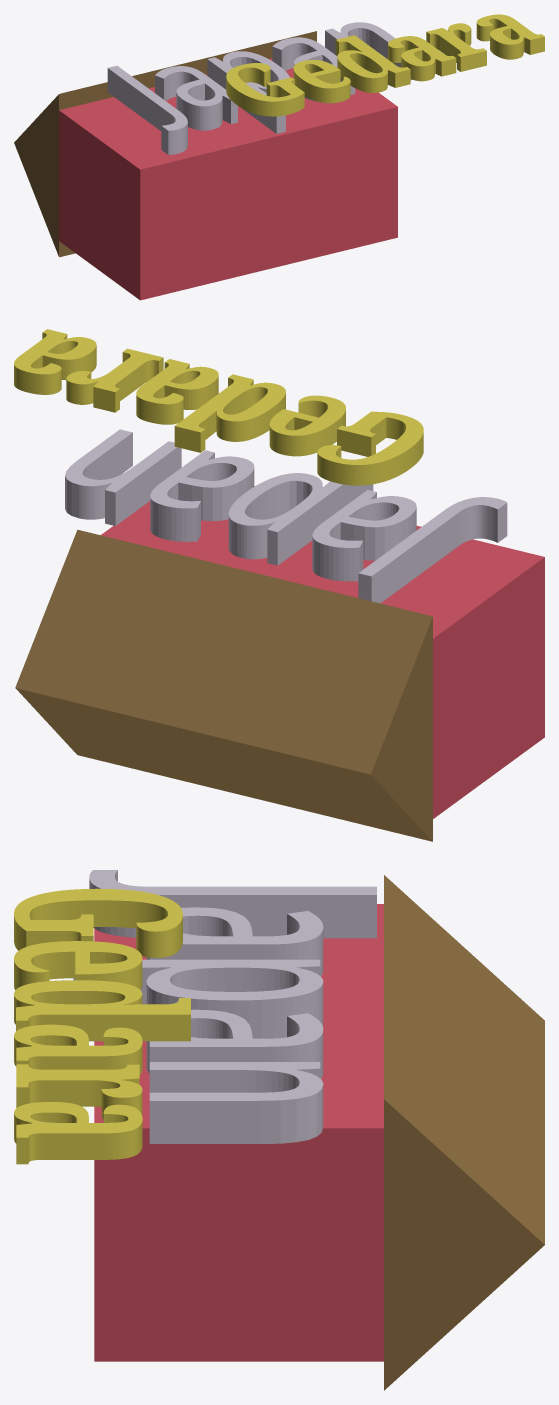
Rendered from house.gltf.
3 views of the same model, one above another, from view 1: azimuth 30°, elevation 25°; view 2: azimuth 150°, elevation 25°; view 3: azimuth 270°, elevation 25° (orthographic). The views are drawn at different scales.
Visible parts, largest first — view 1: Mesh_Mesh_head_geo.001_lambert2SG.001; view 2: Mesh_Mesh_head_geo.001_lambert2SG.001; view 3: Mesh_Mesh_head_geo.001_lambert2SG.001.
Boxes of the visible parts, x1,y1,x2,y2 form: Mesh_Mesh_head_geo.001_lambert2SG.001: [14, 14, 544, 300]; Mesh_Mesh_head_geo.001_lambert2SG.001: [14, 329, 544, 841]; Mesh_Mesh_head_geo.001_lambert2SG.001: [14, 870, 544, 1390].
Bounding box in the file's own units: 49 × 24.82 × 33.
